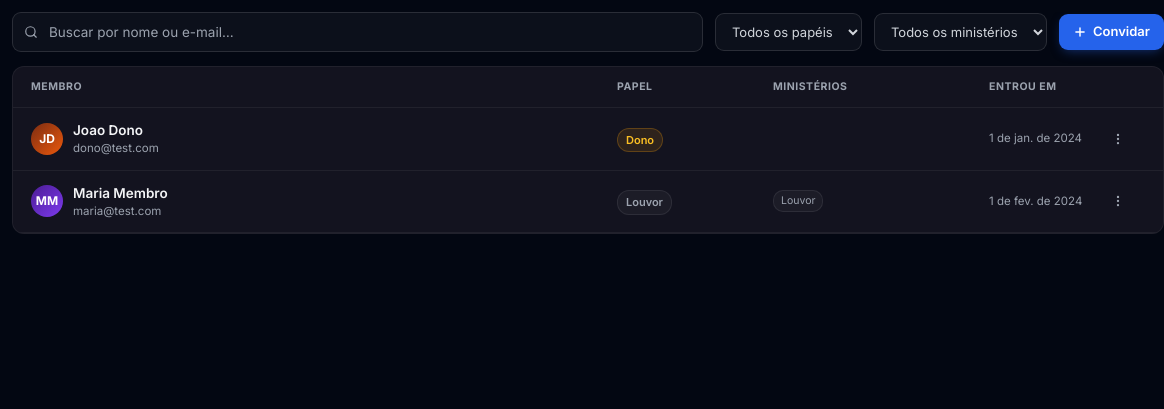
OrgMembers › clicar menu kebab do membro abre MemberMenu
Check: the text "Maria Membro" is shown, box [73,182,168,203]
Note: Click the last kebab button (Maria Membro — admin-on-member variant)
What coordinates should you click on to do the following:
click the button named "Mais ações" next to "1 de fev. de 2024"
I would click on:
 (1118, 201)
Its box is [1105,188,1131,214].
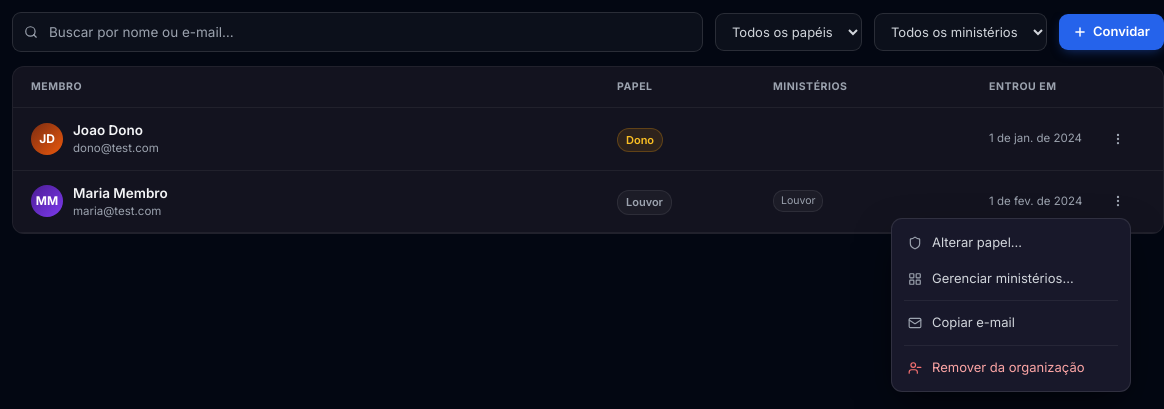
Check: the text "Alterar papel…" is shown, box [932,234,1022,250]
